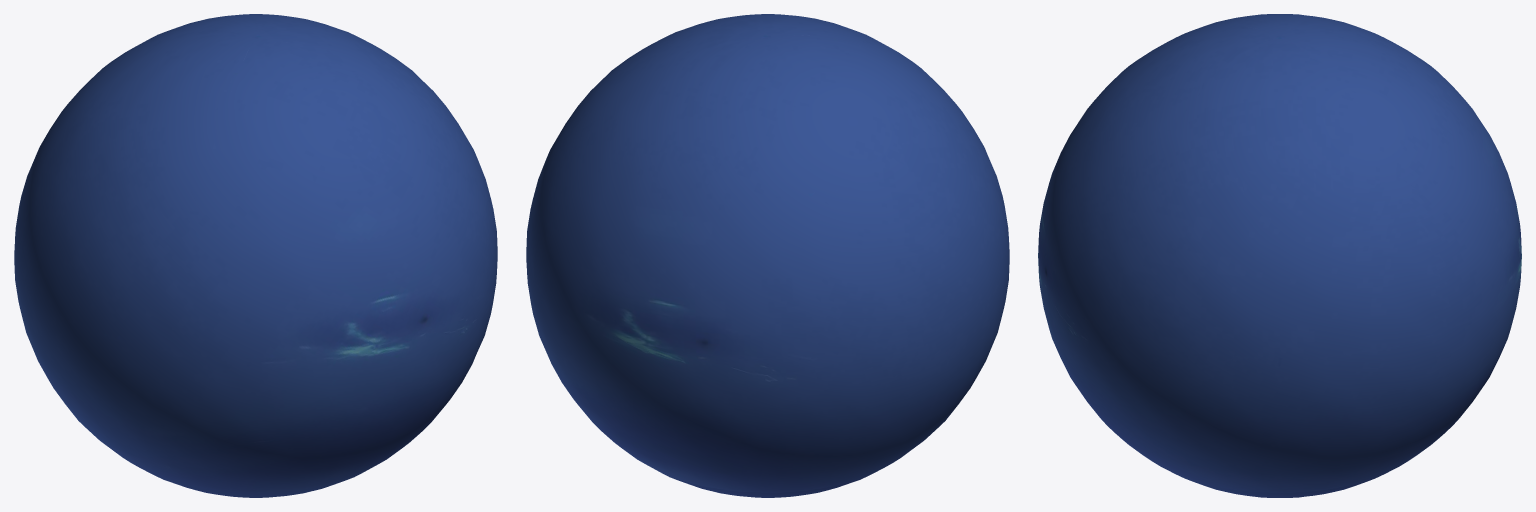
File: neptune.glb
3 renders of one model, left to right at view 1: azimuth 30°, elevation 25°; view 2: azimuth 150°, elevation 25°; view 3: azimuth 270°, elevation 25°, orthographic.
Visible parts, largest first — view 1: Photoreal Smooth Neptune; view 2: Photoreal Smooth Neptune; view 3: Photoreal Smooth Neptune.
Part boxes in pixels (box(x1,y1,x2,y2)): Photoreal Smooth Neptune: box(14, 14, 497, 497); Photoreal Smooth Neptune: box(526, 14, 1009, 497); Photoreal Smooth Neptune: box(1038, 14, 1521, 497).
Bounding box in the file's own units: 0.998 × 0.998 × 0.998.
1 material, 1 textured.
